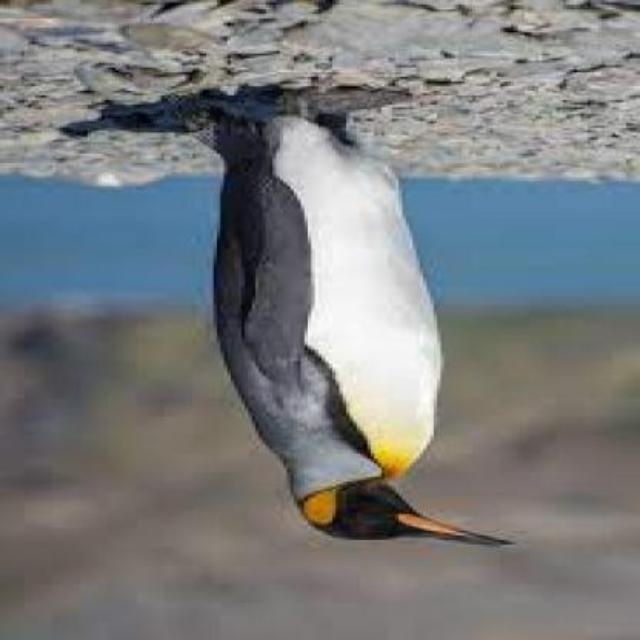penguin: (163, 84, 516, 548)
